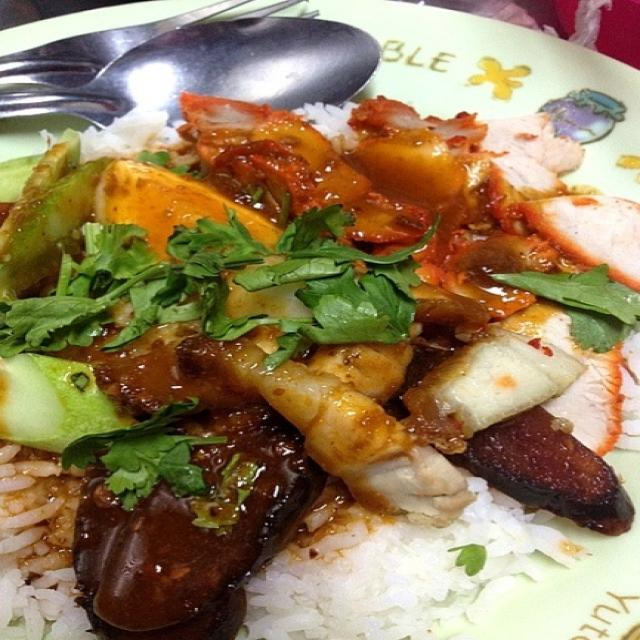猪肉菜式: (29, 48, 604, 612)
